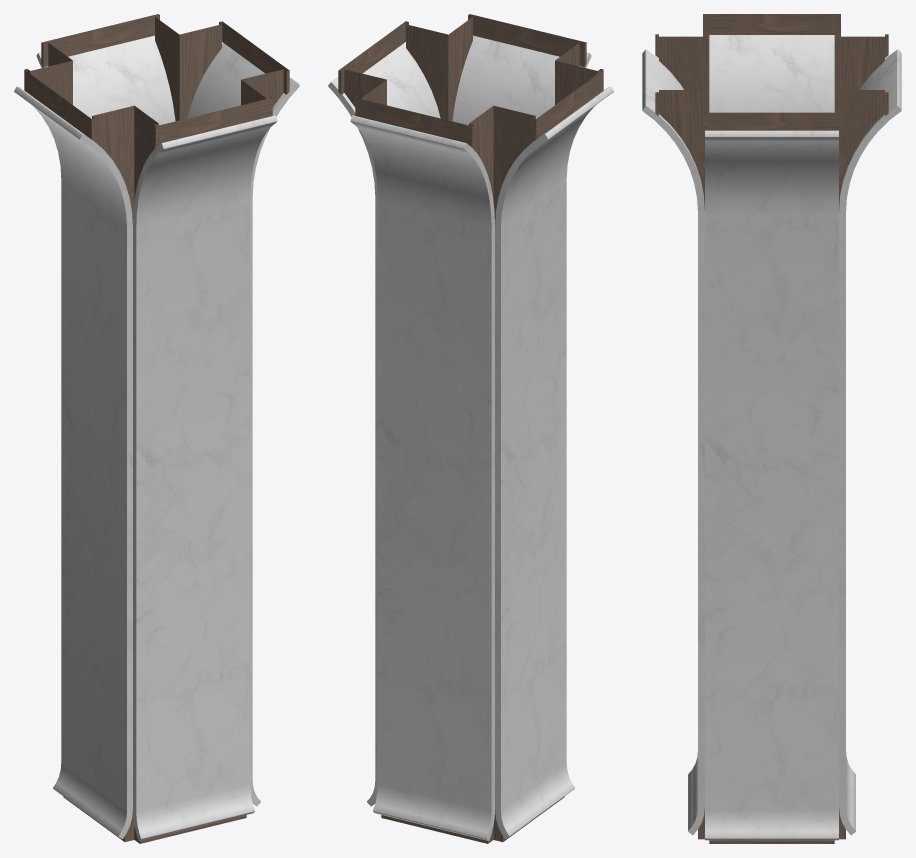
File: M_W_Pillar_002.fbx
3 renders of one model, left to right at view 1: azimuth 30°, elevation 25°; view 2: azimuth 150°, elevation 25°; view 3: azimuth 270°, elevation 25°, orthographic. The views are drawn at different scales.
Parts seen in each view (by area): view 1: M_W_Pillar_002; view 2: M_W_Pillar_002; view 3: M_W_Pillar_002.
Boxes of the visible parts, x1,y1,x2,y2 form: M_W_Pillar_002: [14, 14, 299, 843]; M_W_Pillar_002: [328, 14, 613, 843]; M_W_Pillar_002: [642, 14, 901, 843].
Size of the model in its own units: 3.77 by 12 by 3.77.
